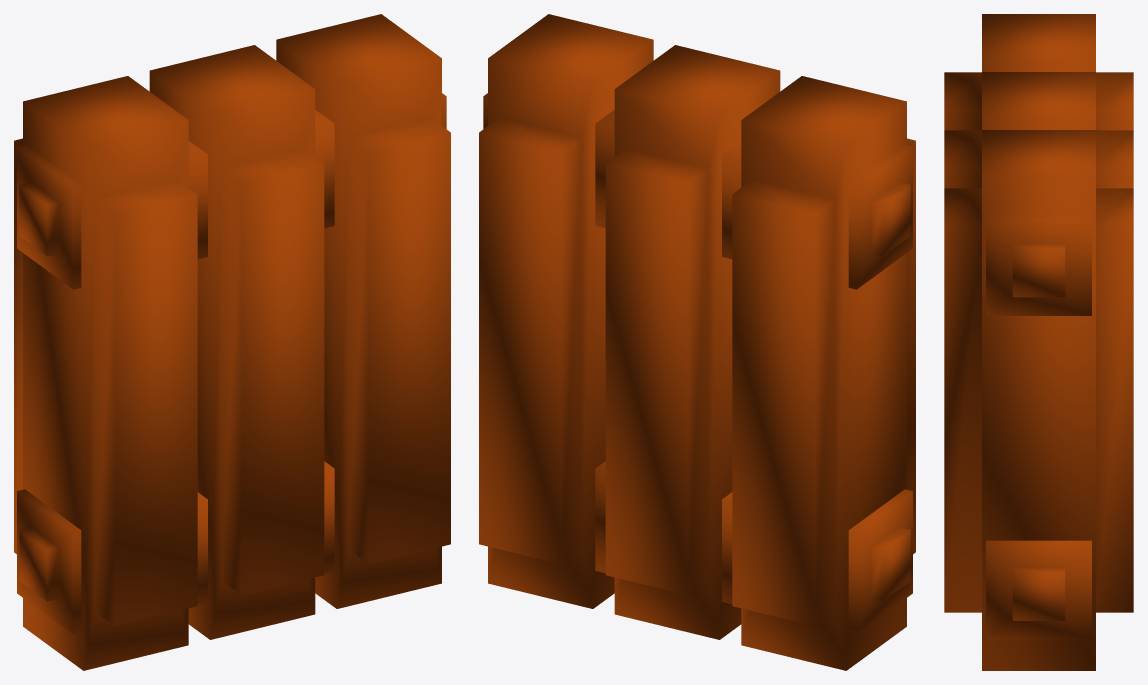
Rendered from BateriaLanterna.dae.
3 renders of one model, left to right at view 1: azimuth 30°, elevation 25°; view 2: azimuth 150°, elevation 25°; view 3: azimuth 270°, elevation 25°, orthographic. The views are drawn at different scales.
Visible parts, largest first — view 1: BateriaLanterna; view 2: BateriaLanterna; view 3: BateriaLanterna.
Part boxes in pixels (x1,y1,x2,y2): BateriaLanterna: (14,14,450,670); BateriaLanterna: (479,14,915,670); BateriaLanterna: (944,14,1133,670).
Bounding box in the file's own units: 1.58 × 0.6968 × 2.
